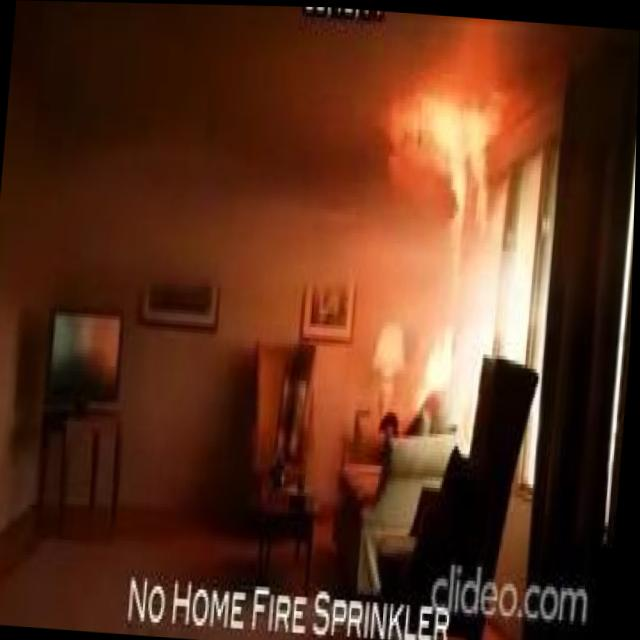fire: (382, 82, 497, 219)
